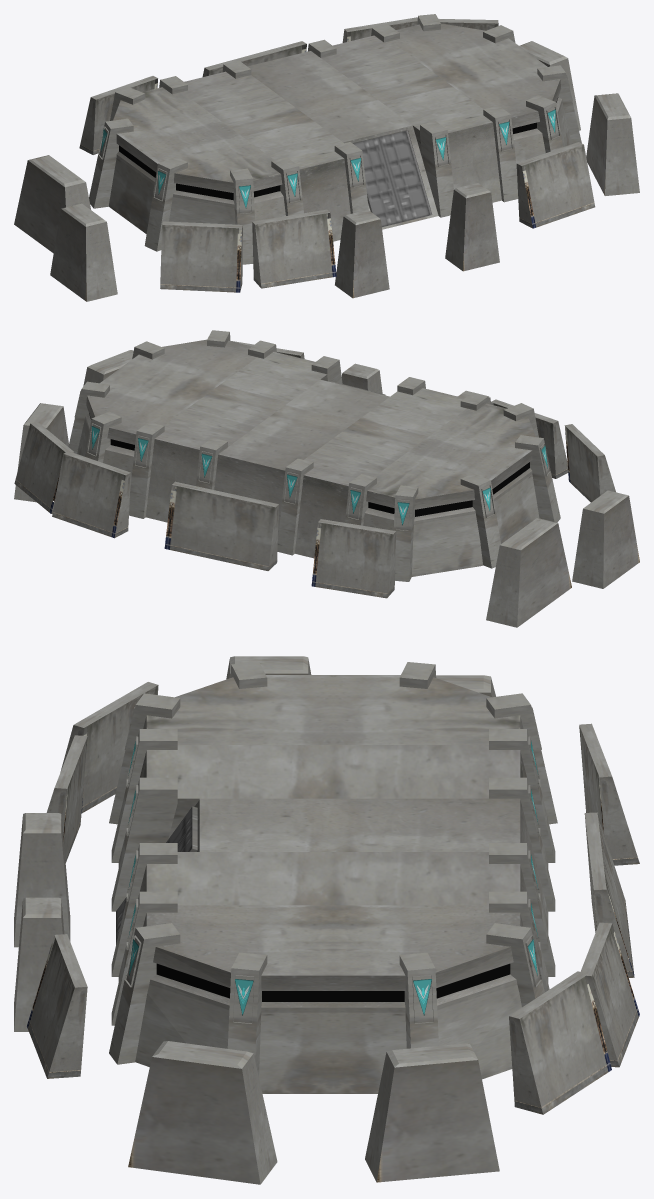
File: barracks.dae
3 views of the same model, one above another, from view 1: azimuth 30°, elevation 25°; view 2: azimuth 150°, elevation 25°; view 3: azimuth 270°, elevation 25° (orthographic). The views are drawn at different scales.
Visible parts, largest first — view 1: barrack; view 2: barrack; view 3: barrack.
Part boxes in pixels (<box>): barrack: <box>14,14,639,301</box>; barrack: <box>14,330,639,627</box>; barrack: <box>14,656,639,1184</box>.
Bounding box in the file's own units: 45.41 × 28.47 × 8.39.
